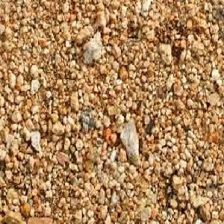sandy_soil: (4, 20, 211, 204)
